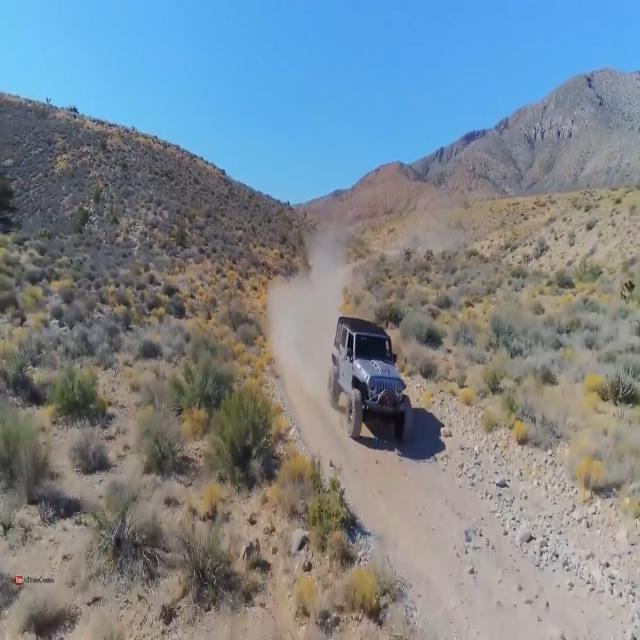Vehicle: (324, 312, 411, 445)
